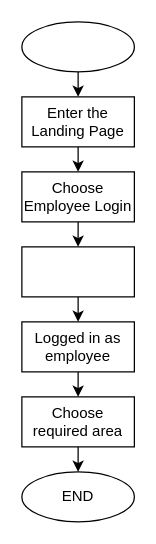
This 156x544 diagram has some shape labels left out. Here are the shapes that lost their labels. From the top down, the centre of each, then its label:
At (x=77, y=46): "START".
At (x=77, y=271): "Sign-In to account".
